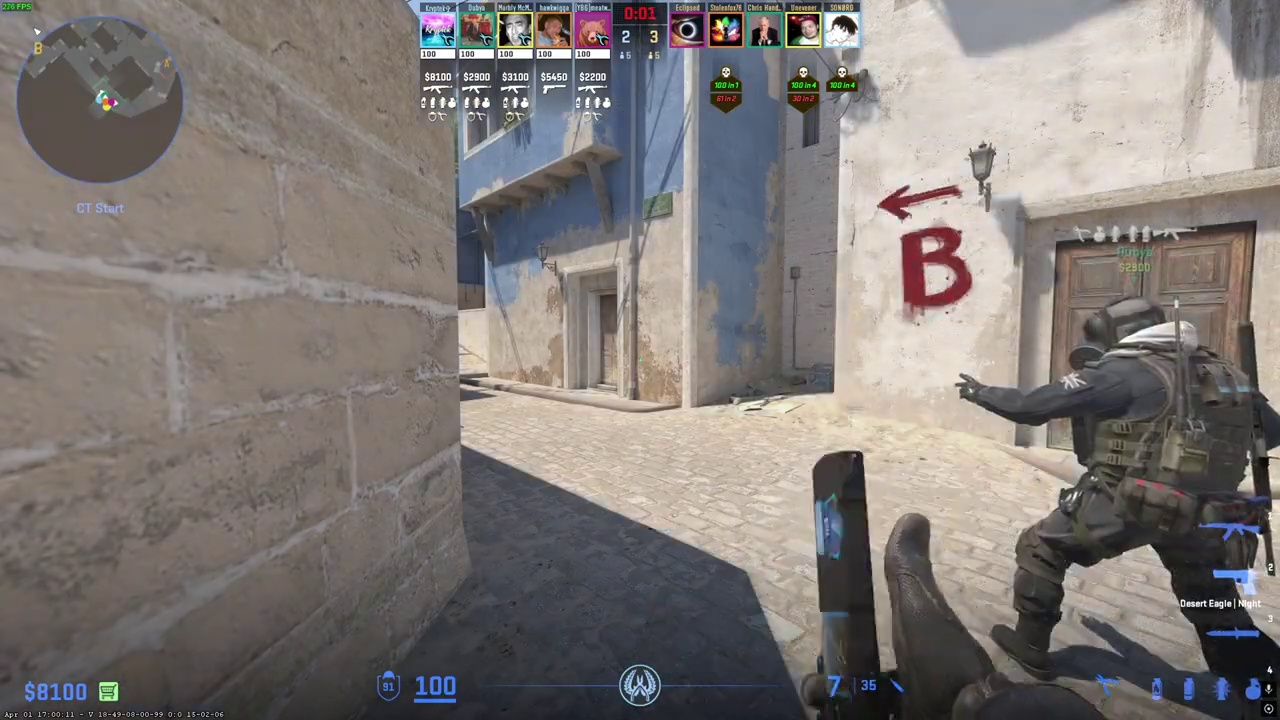CT: (1010, 295, 1277, 715)
